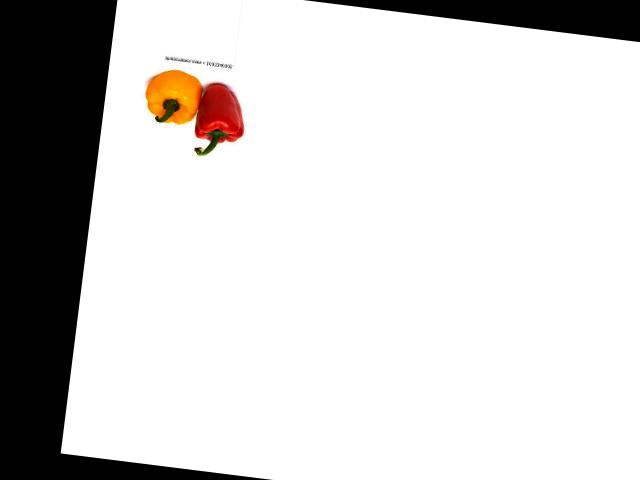bell_pepper: (139, 61, 206, 131)
